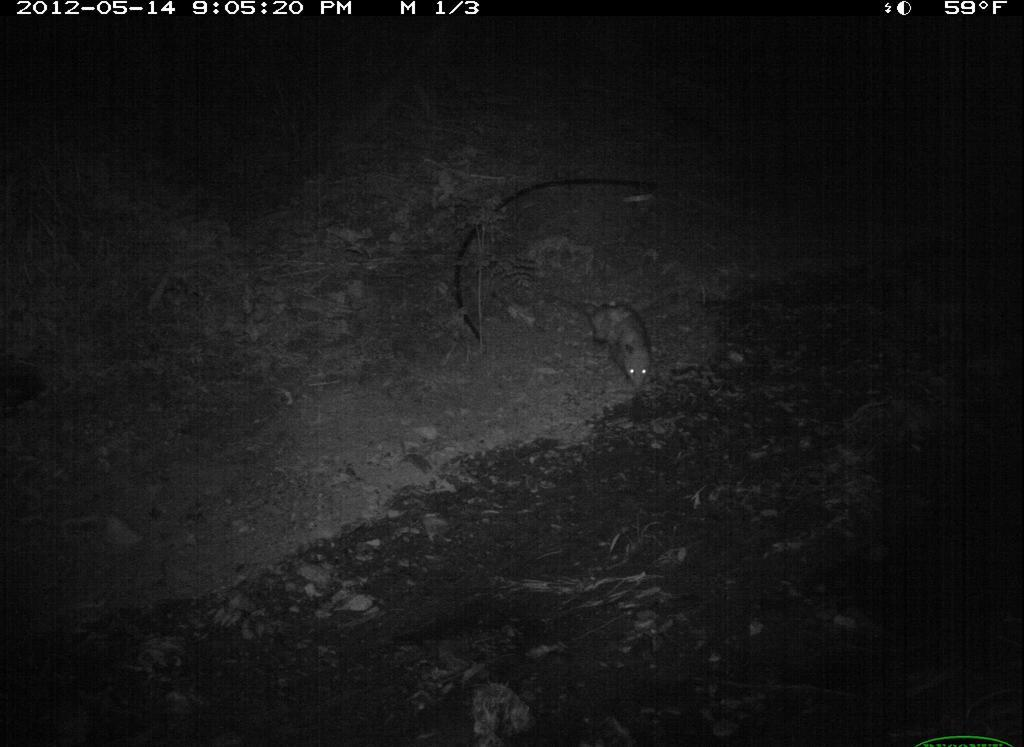opossum: (547, 283, 662, 400)
